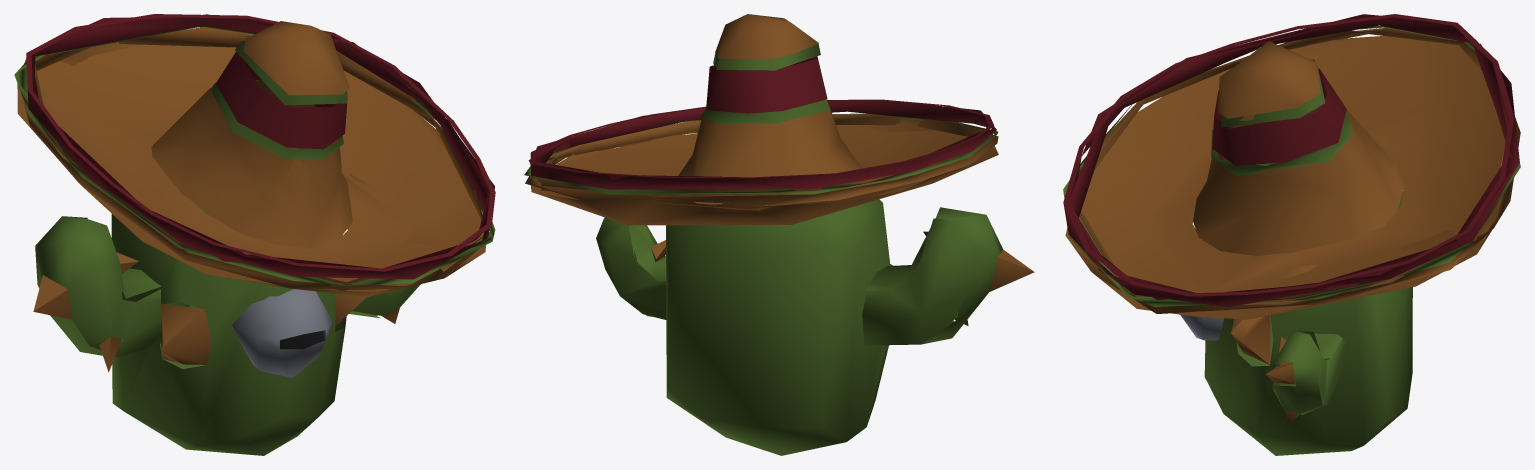
The model's file is cactoro.common-far.glb.
3 views of the same model, side by side, from view 1: azimuth 30°, elevation 25°; view 2: azimuth 150°, elevation 25°; view 3: azimuth 270°, elevation 25° (orthographic). The views are drawn at different scales.
Visible parts, largest first — view 1: HordeReadyRigidMesh; view 2: HordeReadyRigidMesh; view 3: HordeReadyRigidMesh.
Boxes of the visible parts, bbox=[...] form: HordeReadyRigidMesh: bbox=[14, 14, 495, 455]; HordeReadyRigidMesh: bbox=[524, 14, 1034, 455]; HordeReadyRigidMesh: bbox=[1063, 14, 1520, 455].
Bounding box in the file's own units: 1.37 × 1.2 × 1.23.
